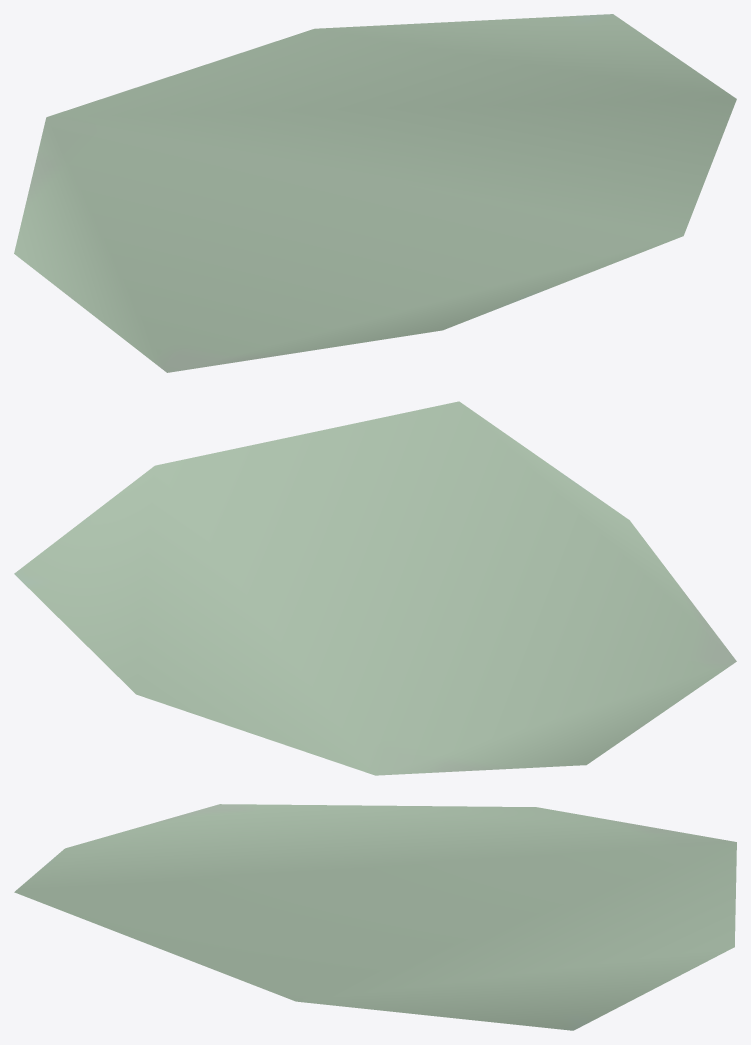
The model's file is TROLLHOLE02_HOLECAP132.fbx.
The picture shows the model from 3 angles, top to bottom: view 1: azimuth 30°, elevation 25°; view 2: azimuth 150°, elevation 25°; view 3: azimuth 270°, elevation 25°; orthographic projection. The views are drawn at different scales.
Parts seen in each view (by area): view 1: TROLLHOLE02_HOLECAP132; view 2: TROLLHOLE02_HOLECAP132; view 3: TROLLHOLE02_HOLECAP132.
Part boxes in pixels (x1,y1,x2,y2): TROLLHOLE02_HOLECAP132: [14, 14, 736, 372]; TROLLHOLE02_HOLECAP132: [14, 401, 736, 775]; TROLLHOLE02_HOLECAP132: [14, 804, 736, 1030].
Size of the model in its own units: 21088 by 3623 by 21357.
1 material, 1 textured.
